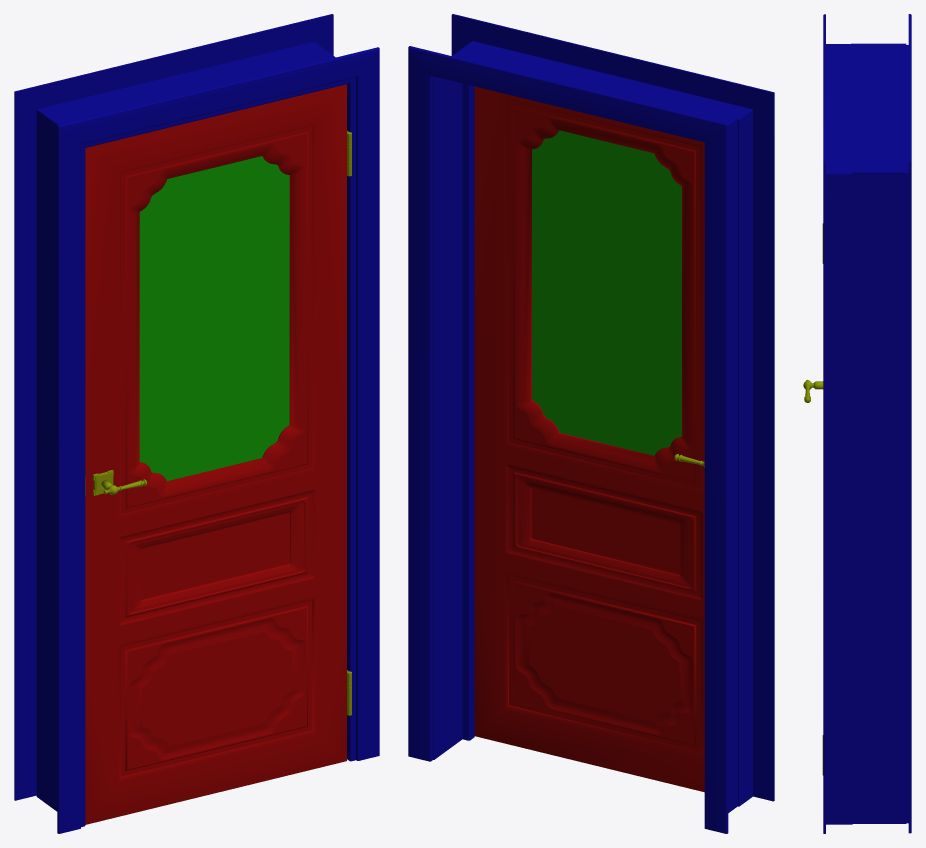
The model's file is Verona_PO.fbx.
3 renders of one model, left to right at view 1: azimuth 30°, elevation 25°; view 2: azimuth 150°, elevation 25°; view 3: azimuth 270°, elevation 25°, orthographic. The views are drawn at different scales.
Parts seen in each view (by area): view 1: Verona_PO_low, LiraDoorTrim003, handle_low025; view 2: Verona_PO_low, LiraDoorTrim003; view 3: LiraDoorTrim003, handle_low025.
Boxes of the visible parts, left/top/right/bottom form: Verona_PO_low: left=85, top=84, right=346, bottom=824; LiraDoorTrim003: left=14, top=14, right=379, bottom=833; handle_low025: left=92, top=470, right=147, bottom=495; Verona_PO_low: left=474, top=86, right=704, bottom=792; LiraDoorTrim003: left=408, top=14, right=774, bottom=833; LiraDoorTrim003: left=823, top=14, right=911, bottom=833; handle_low025: left=803, top=379, right=823, bottom=402.
Bounding box in the file's own units: 994 × 2093 × 305.
